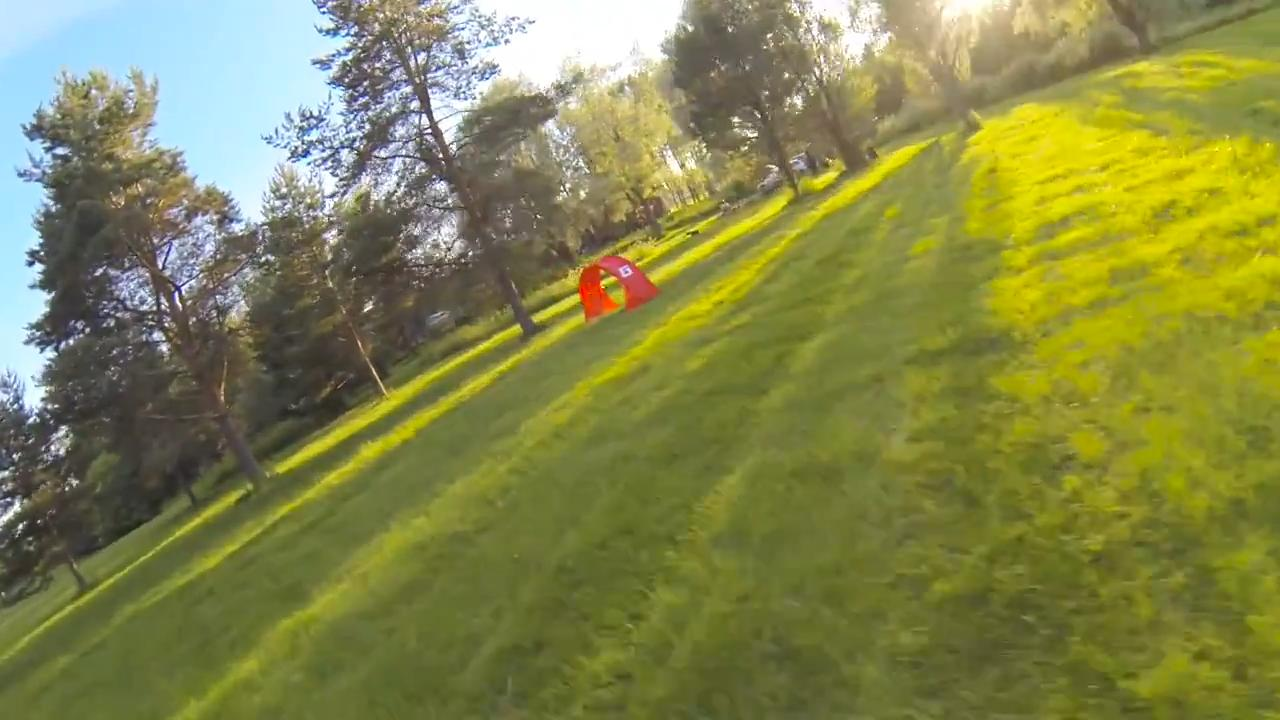gate: (573, 255, 660, 322)
